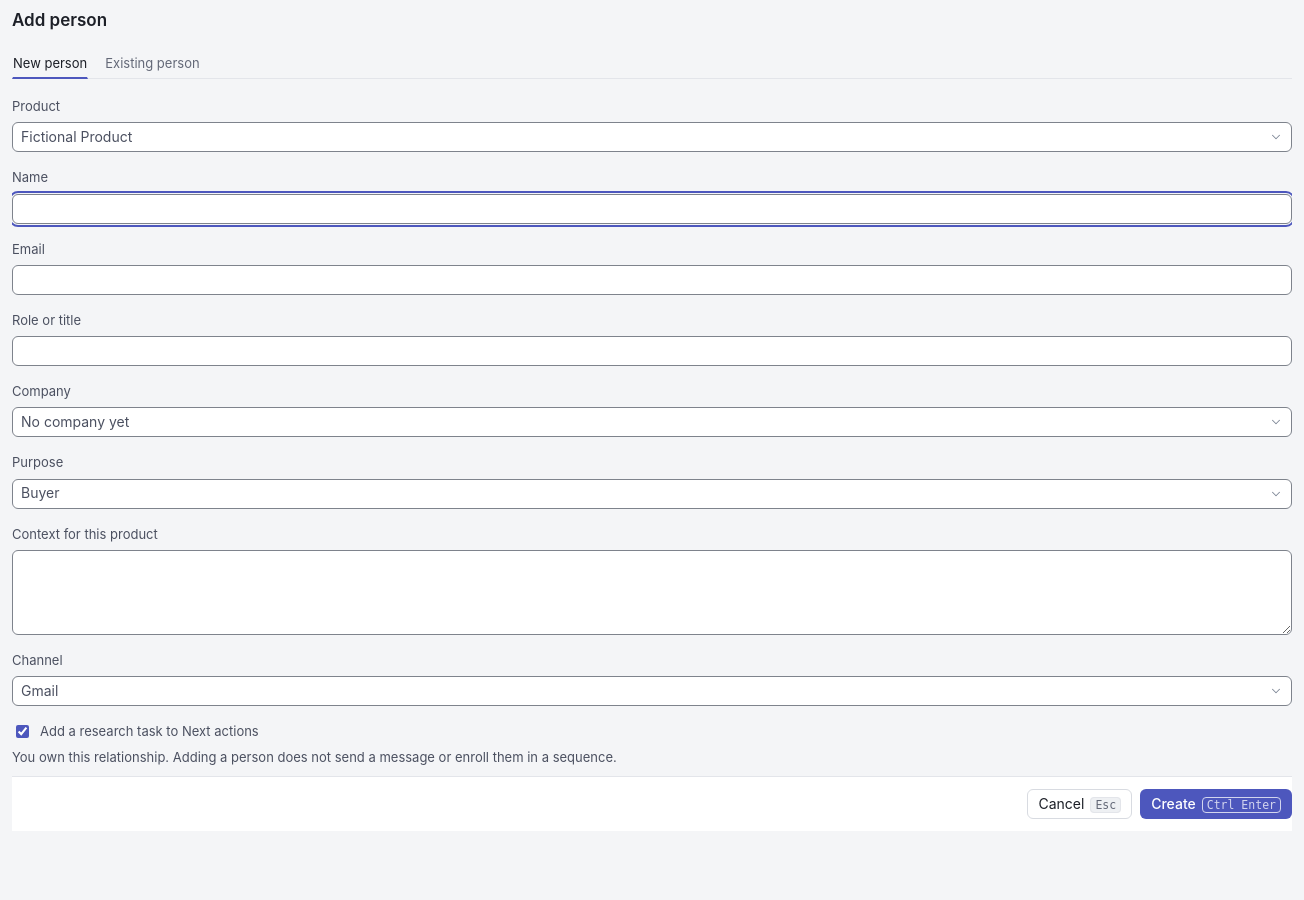
Test case: a person form focuses its primary field after scope loads and retains values on a failed save
Type "Fictional Test Buyer" into the field labelled "Name" at (652, 209), box [12,194,1292,224]
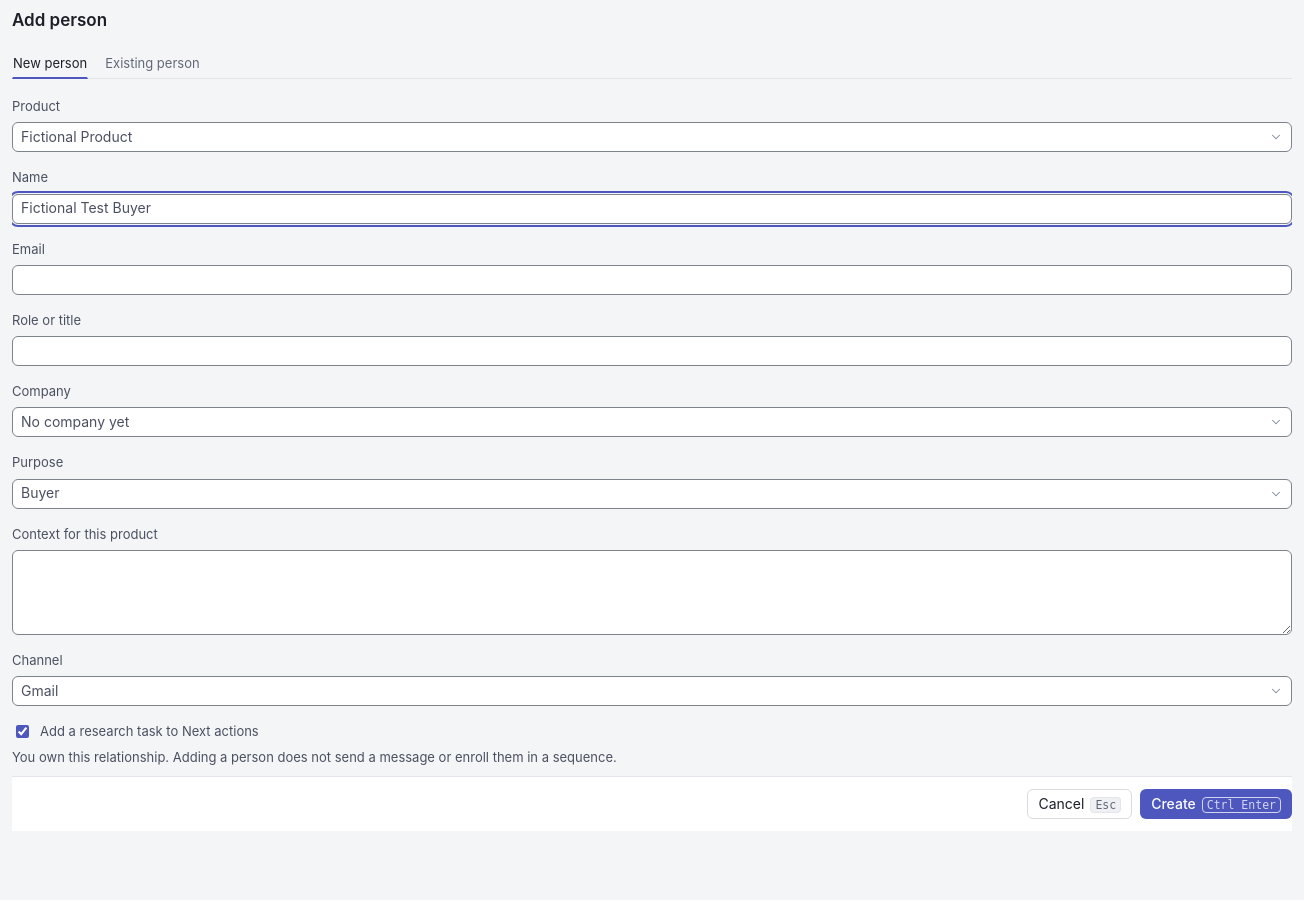
Press Enter in the field labelled "Name", box [12,194,1292,224]
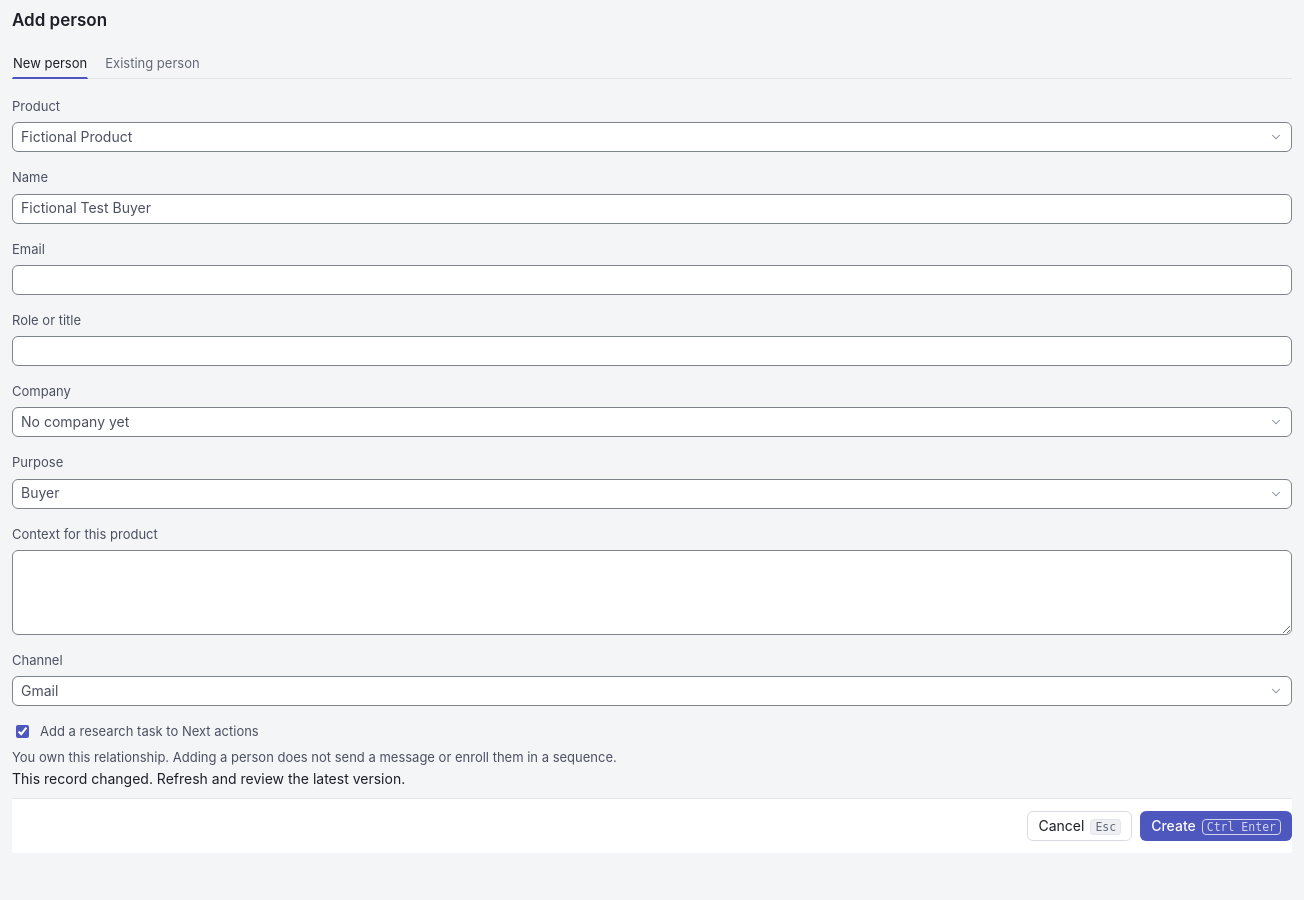
Check: the message reads "This record changed. Refresh and review the latest version.", box [12,770,405,787]
